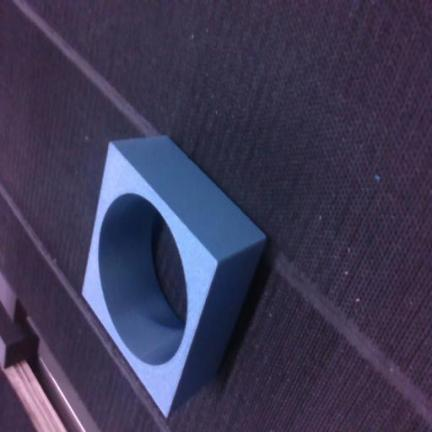square: (83, 136, 265, 415)
